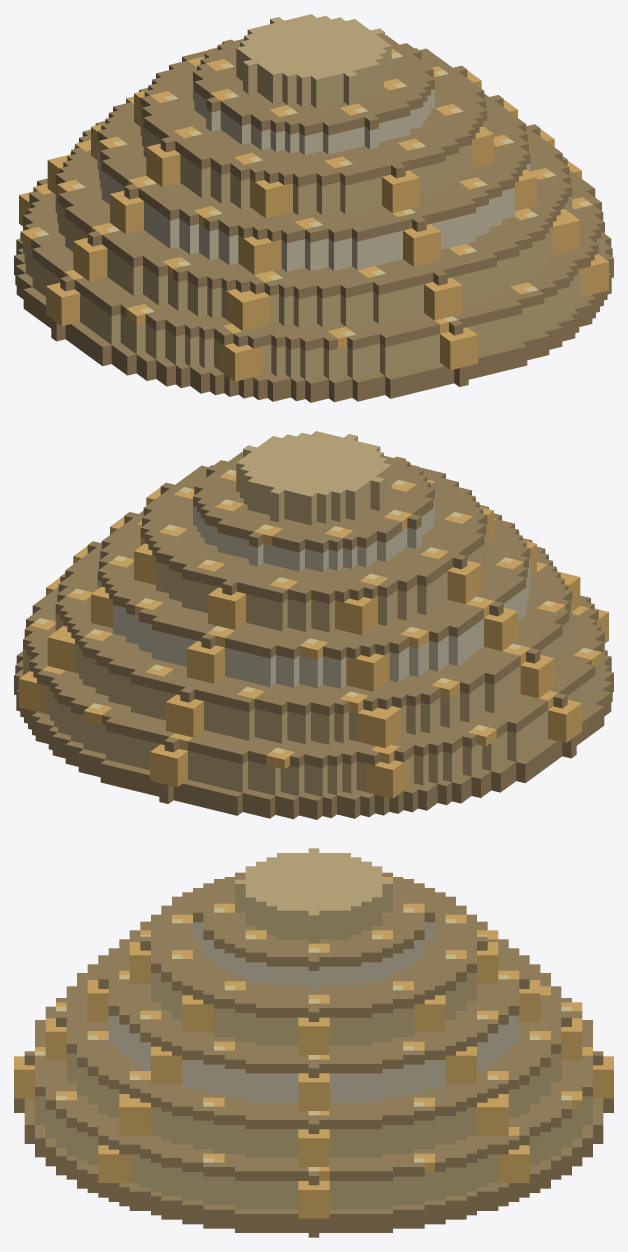
File: mound.glb
3 views of the same model, one above another, from view 1: azimuth 30°, elevation 25°; view 2: azimuth 150°, elevation 25°; view 3: azimuth 270°, elevation 25° (orthographic).
Bounding box in the file's own units: 57 × 24 × 57.
